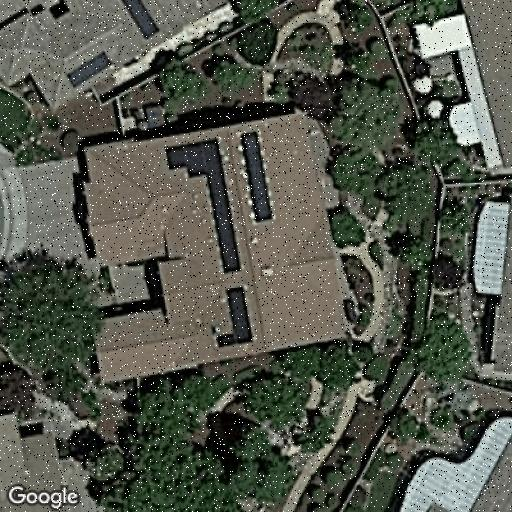solar-panel: (162, 136, 242, 274), (237, 128, 275, 224), (211, 284, 257, 348), (64, 48, 116, 90), (119, 0, 164, 40)
